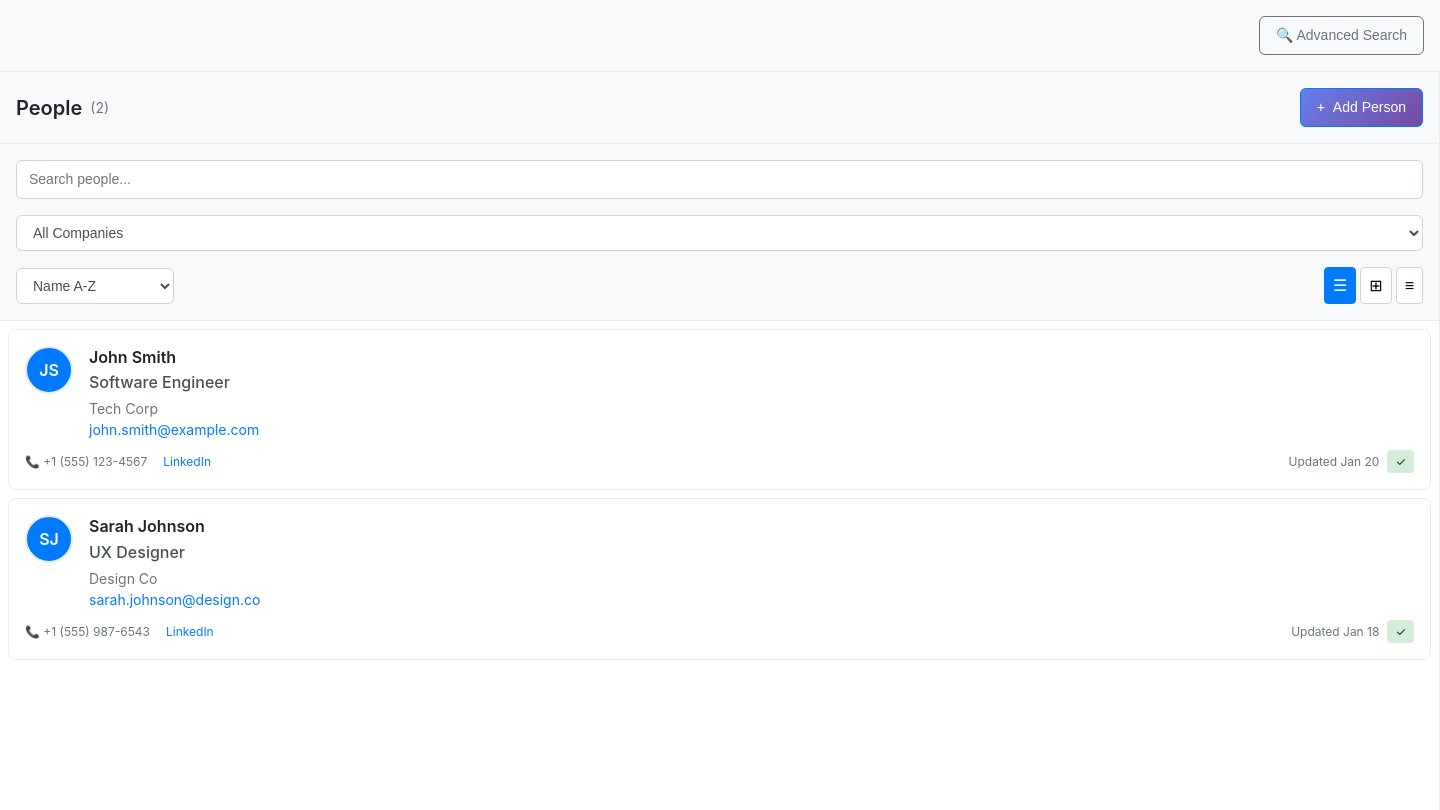
Test: PeoplePage › opens person form when Add Person is clicked
This screenshot has width=1440, height=810.
Click the button "+ Add Person" at coordinates (1361, 108), box [1300, 88, 1423, 127]
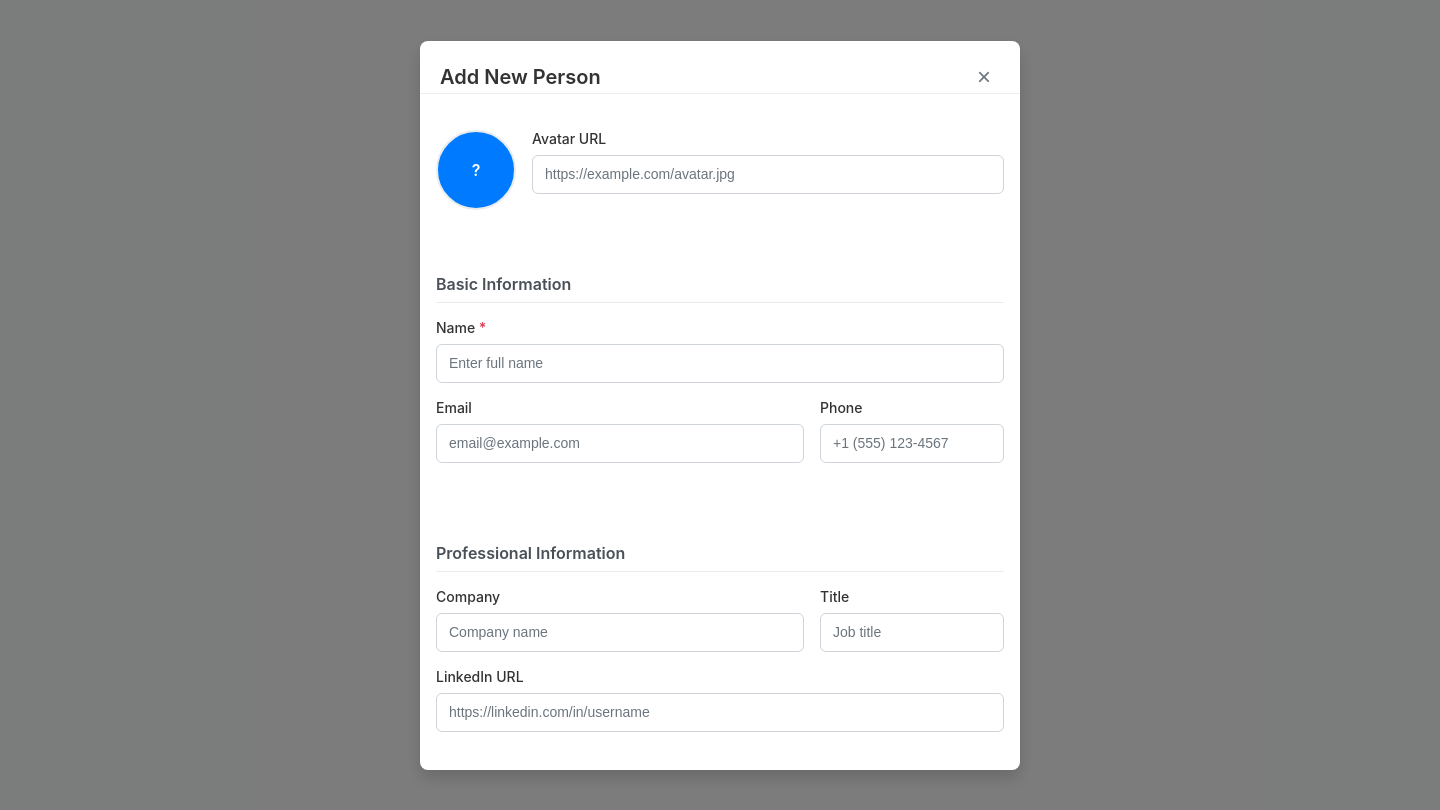
Check: the heading "Add New Person" is shown, box [440, 64, 601, 88]
Check: the field with placeholder "Enter full name" is shown, box [436, 344, 1004, 382]
